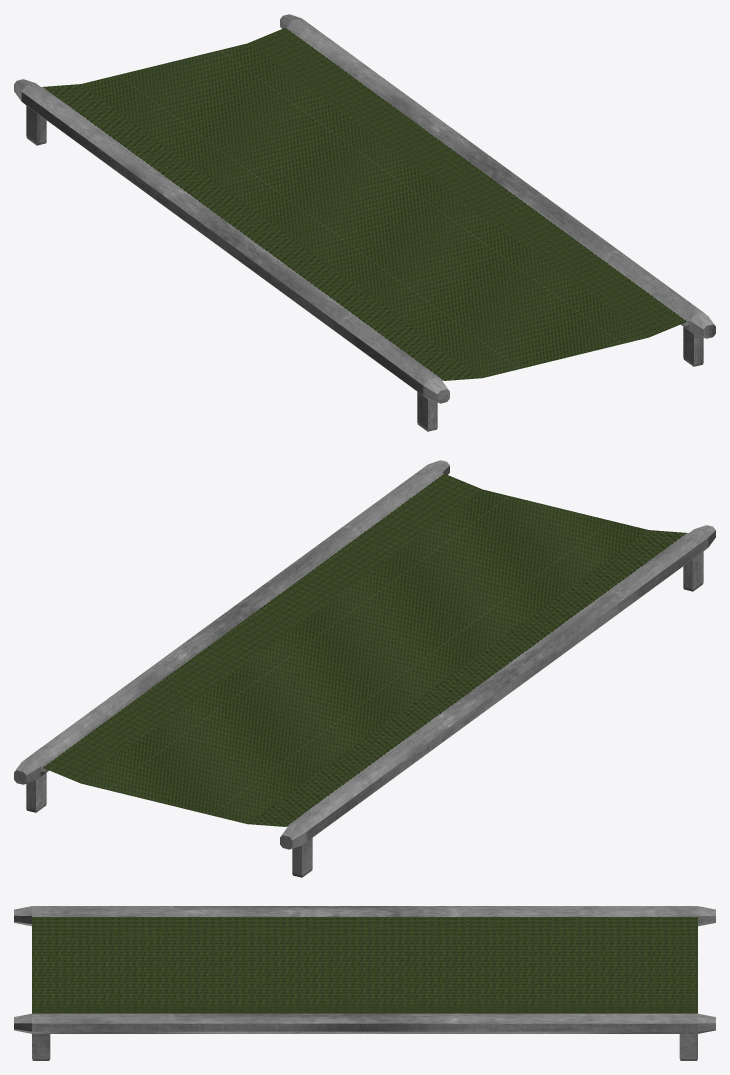
The model's file is lowbedwithtexture.obj.
The picture shows the model from 3 angles, top to bottom: view 1: azimuth 30°, elevation 25°; view 2: azimuth 150°, elevation 25°; view 3: azimuth 270°, elevation 25°; orthographic projection. The views are drawn at different scales.
Parts seen in each view (by area): view 1: Plane001; view 2: Plane001; view 3: Plane001.
Part boxes in pixels (<box>): Plane001: <box>14,14,715,431</box>; Plane001: <box>14,460,715,877</box>; Plane001: <box>14,906,715,1060</box>.
Size of the model in its own units: 1206 by 212 by 3105.
